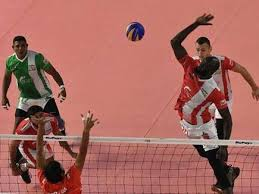ball: (124, 21, 145, 41)
